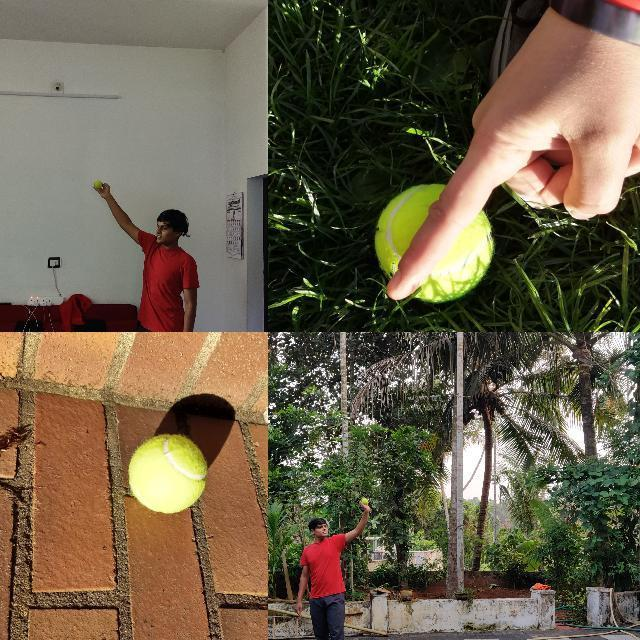tennis-ball: (375, 183, 494, 302), (128, 433, 208, 514), (94, 180, 103, 189), (361, 498, 367, 505)
